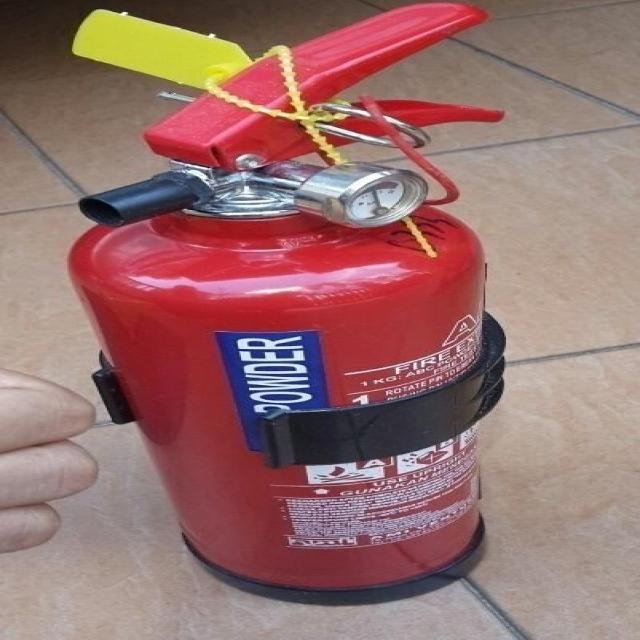fire_extinguisher: (54, 0, 520, 609)
